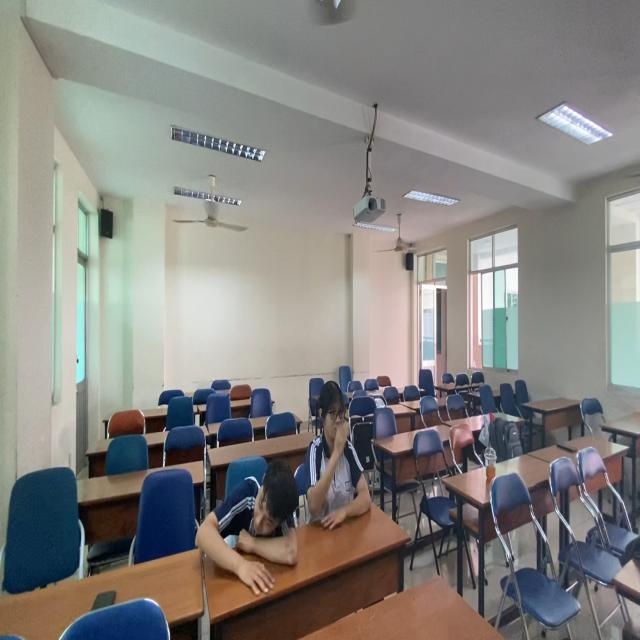raise_hand: (313, 383, 365, 518)
sleep: (193, 463, 306, 604)
